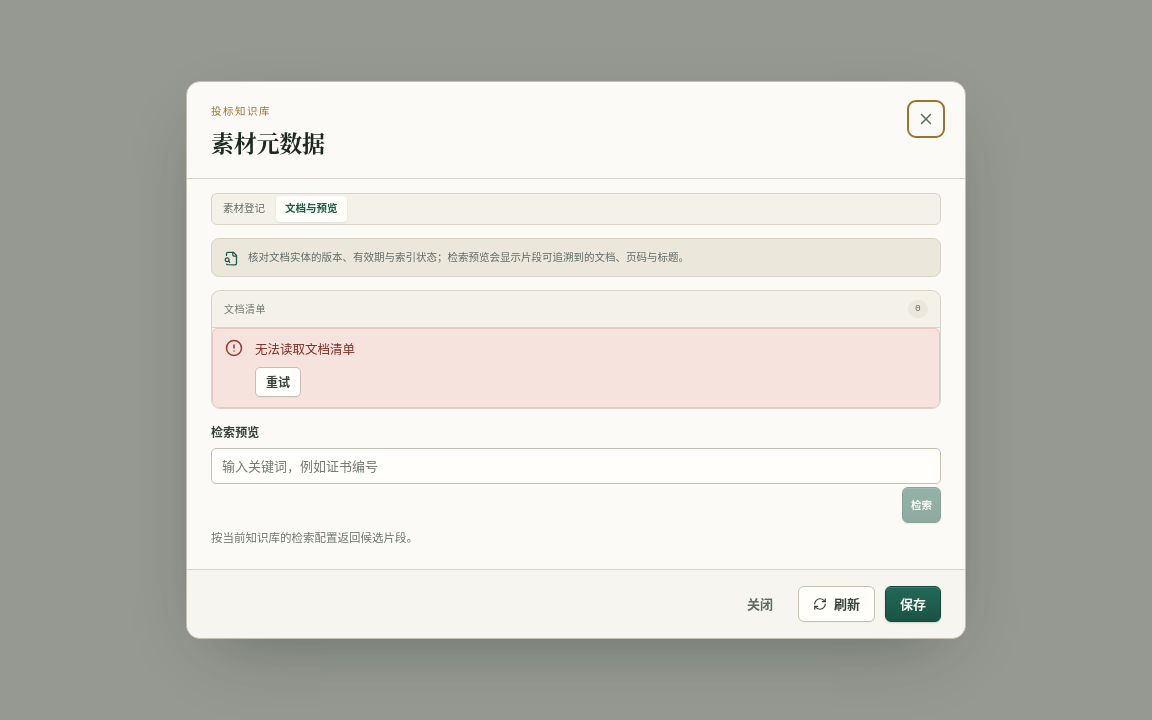
Scenario: AdminKbDocsModal 文档清单与检索预览 › 文档清单加载失败后重试成功
The width and height of the screenshot is (1152, 720).
Check: the text "无法读取文档清单" is shown, box top-left (255, 339), bottom-right (355, 359)
Click the button "重试": (278, 382) top-left (255, 367), bottom-right (301, 397)
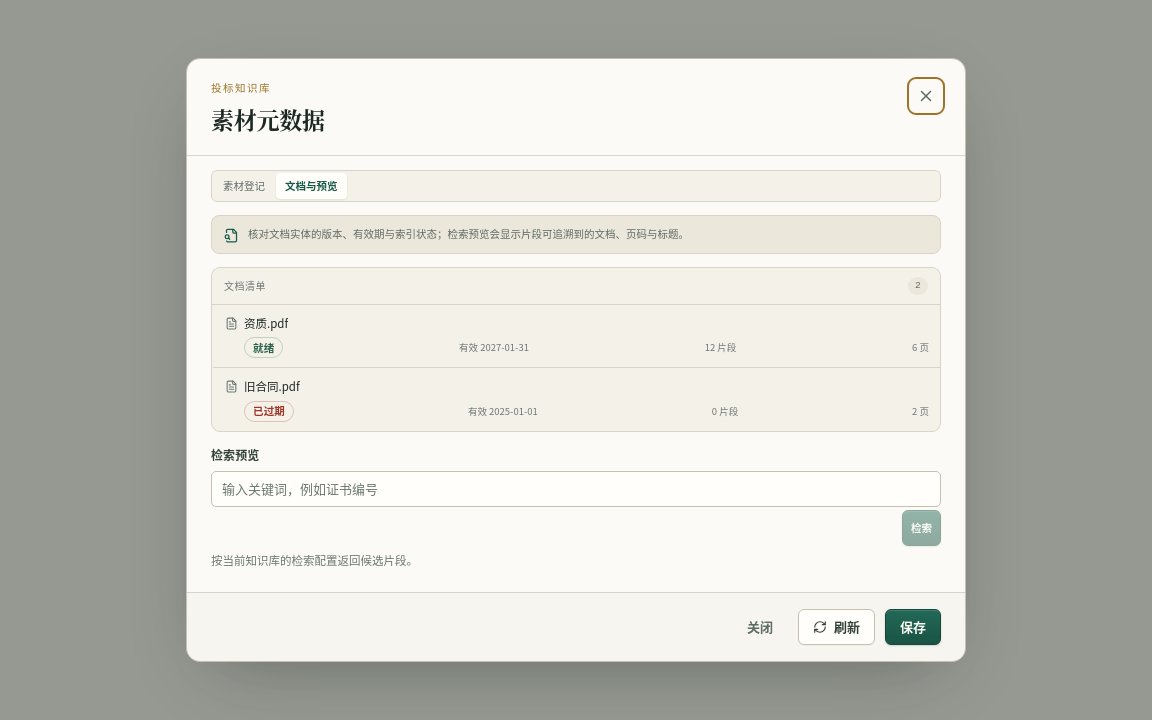
Check: the text "12 片段" is shown, box top-left (705, 340), bottom-right (736, 355)
